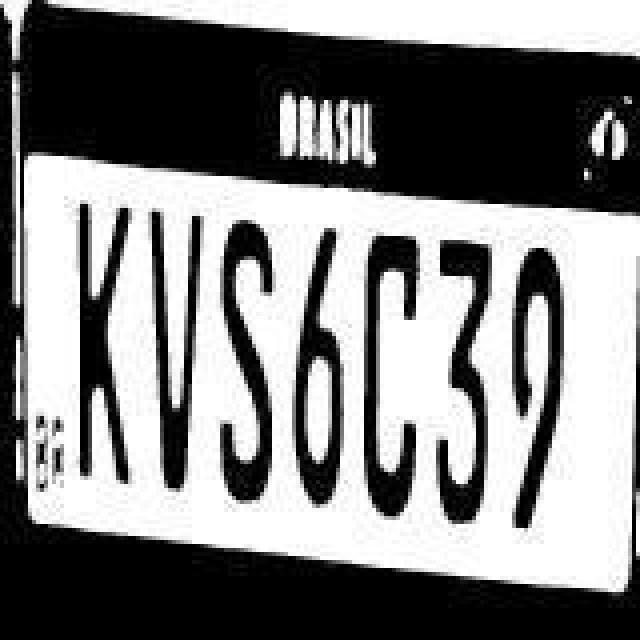3: (432, 220, 496, 524)
6: (292, 220, 348, 516)
9: (496, 218, 560, 534)
C: (350, 230, 426, 530)
K: (68, 212, 140, 508)
S: (212, 214, 284, 514)
V: (140, 216, 204, 504)
